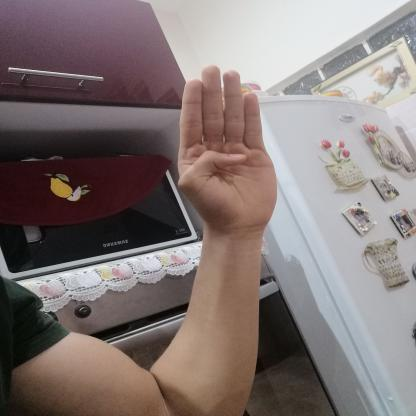KAAF: (161, 56, 297, 242)
